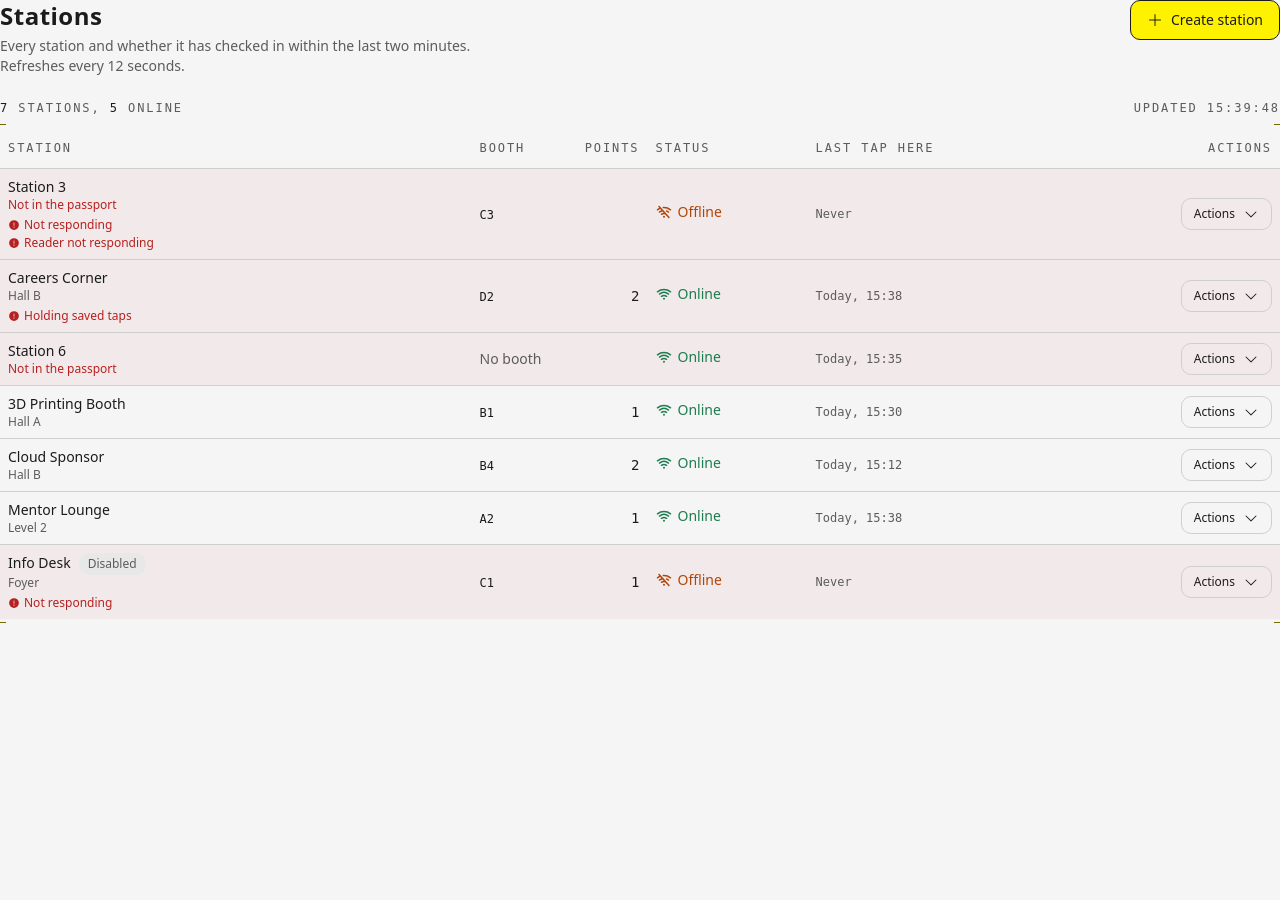
Scenario: StationsScreen › renders the board and keeps the mock add-station dialog working
The width and height of the screenshot is (1280, 900).
expect the text "Not in the passport" below "Station 3" is shown: met, box [8,196,117,212]
Step 1. Click the button "Create station" → (1205, 20), box [1130,0,1279,40]
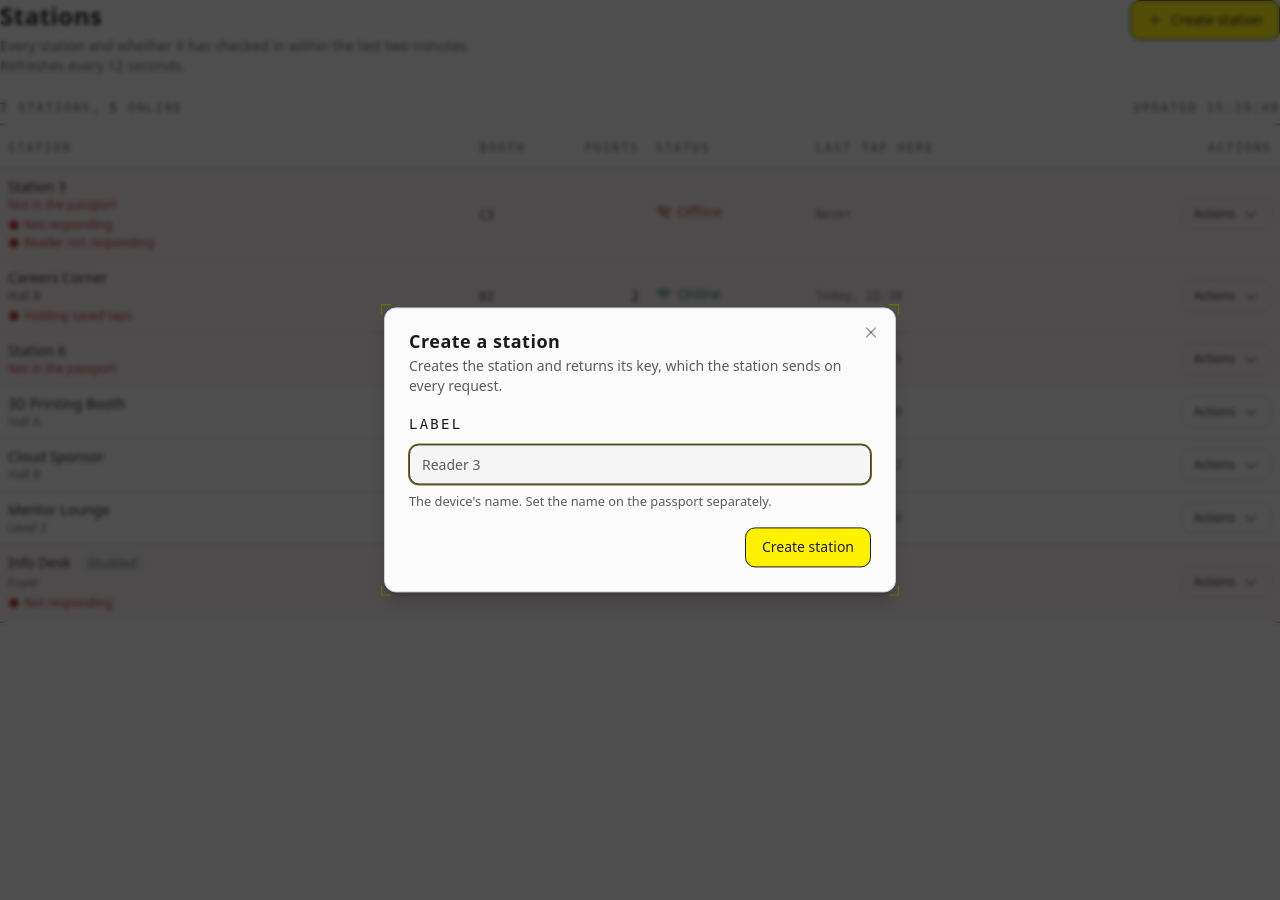
Step 2. Type "Test Station" into the field labelled "Label" → (640, 464), box [409,444,871,484]
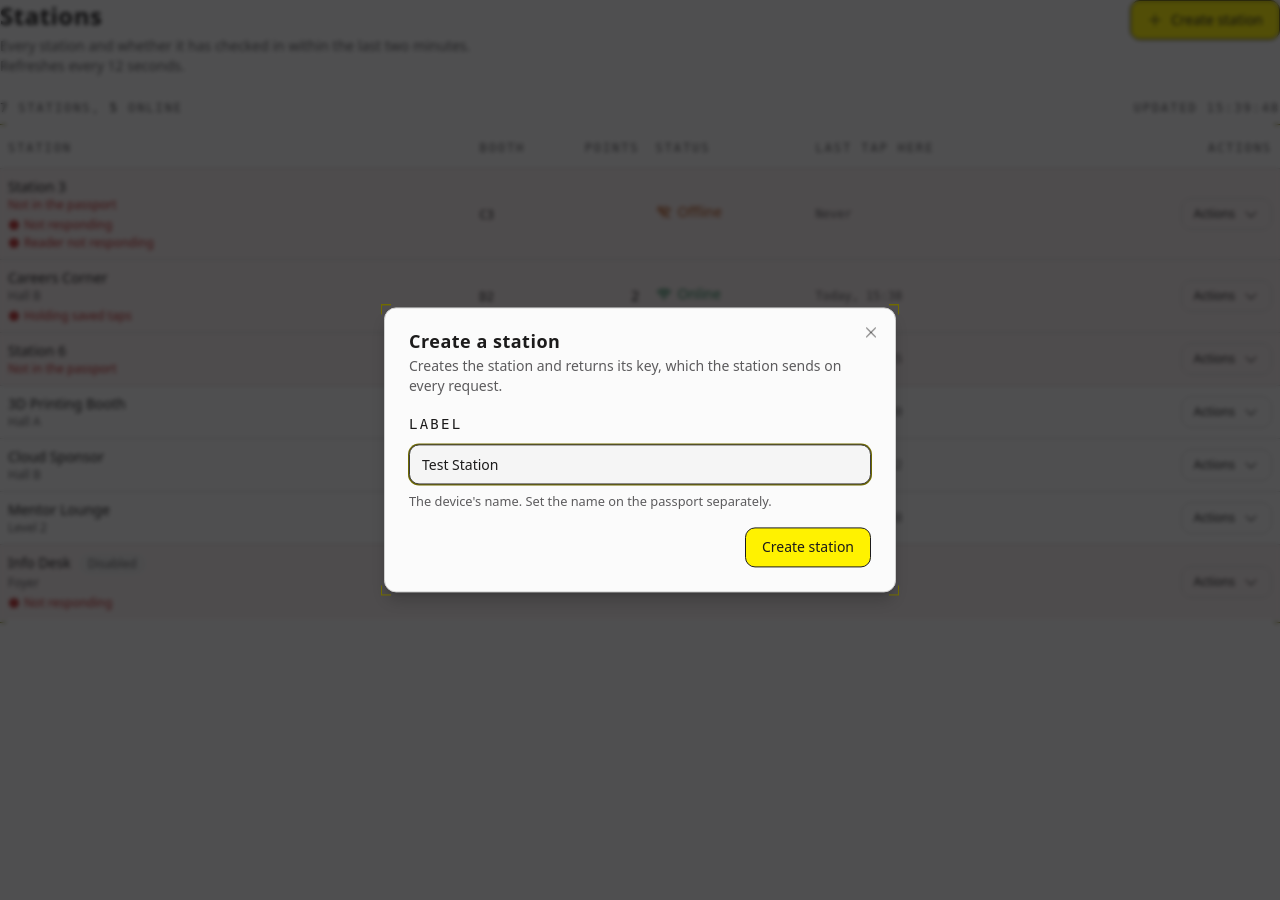
Step 3. Click the button "Create station" → (808, 548), box [745,528,871,568]
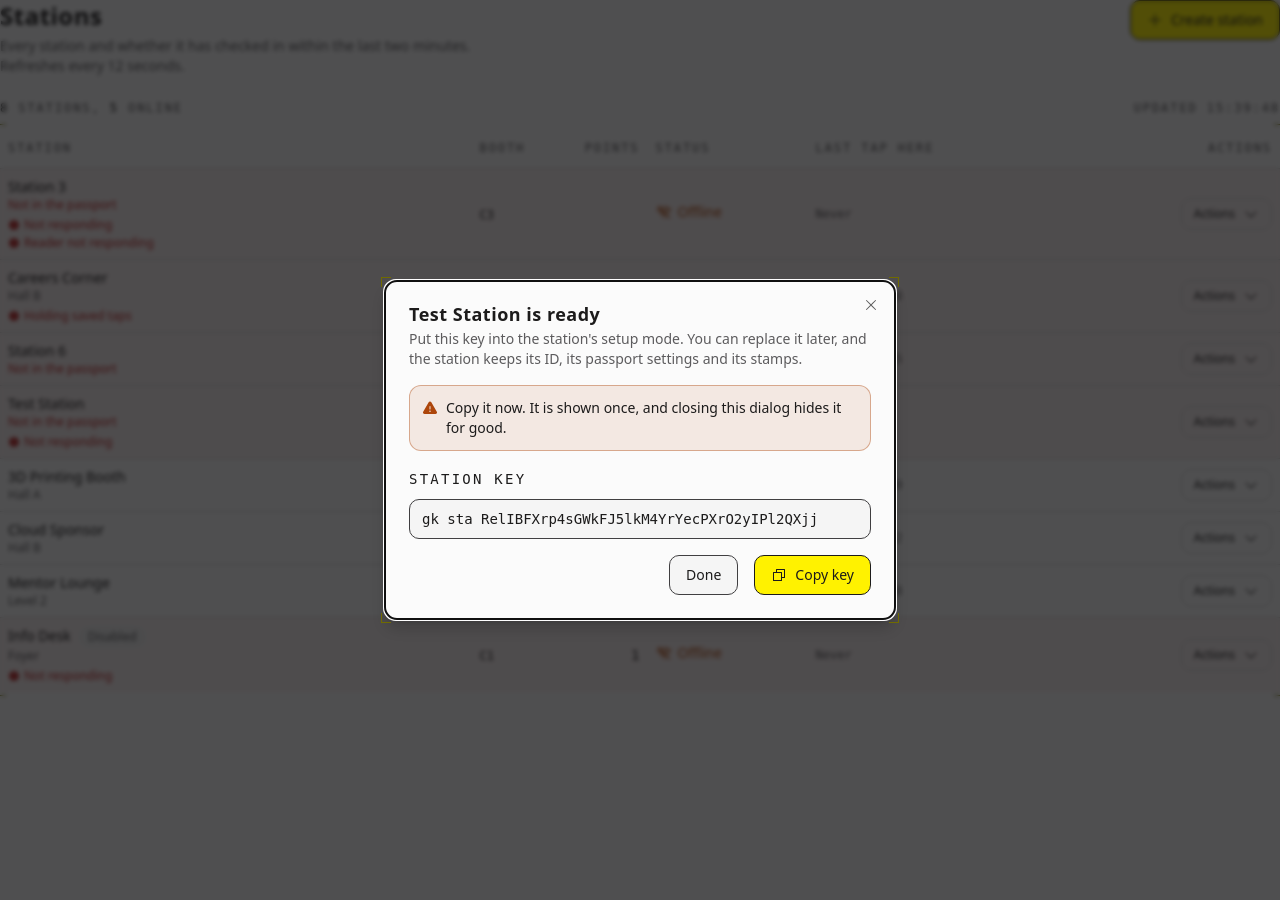
expect the heading "Test Station is ready" is shown: met, box [409,302,600,326]
